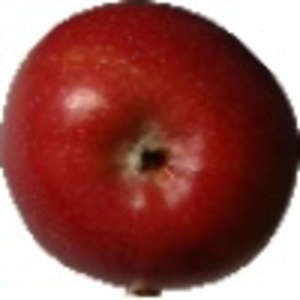maçã braeburn: (1, 1, 300, 297)
